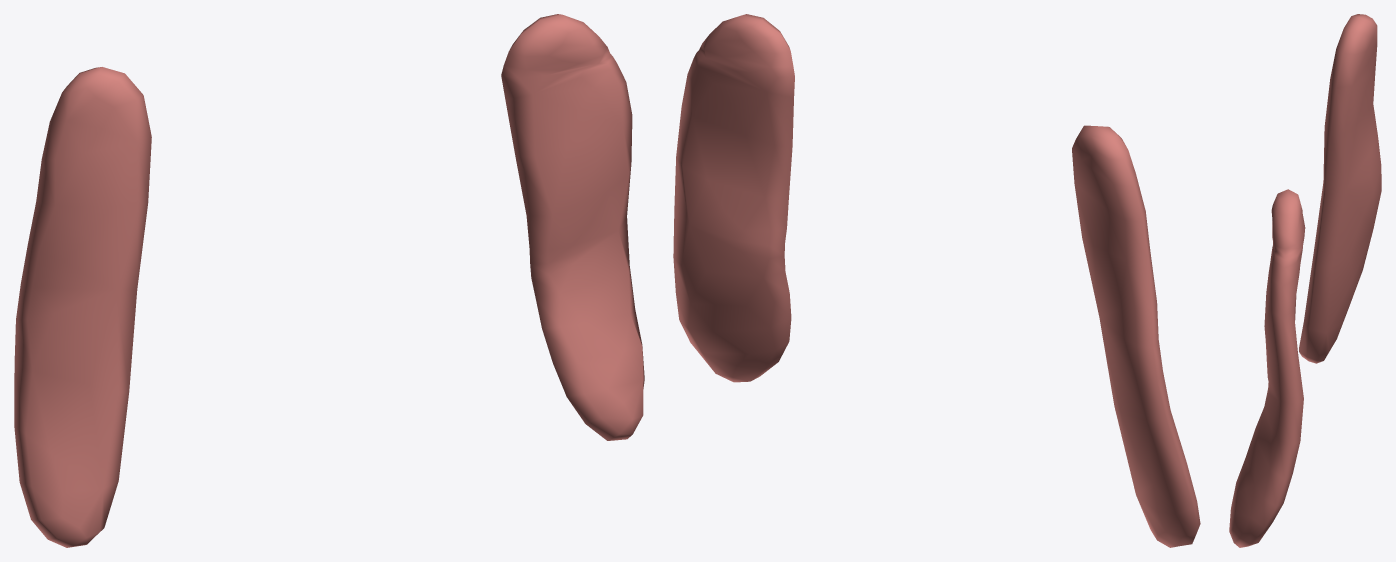
3 renders of one model, left to right at view 1: azimuth 30°, elevation 25°; view 2: azimuth 150°, elevation 25°; view 3: azimuth 270°, elevation 25°, orthographic. The views are drawn at different scales.
Parts seen in each view (by area): view 1: ZA_a45ca5fad7a11abe; view 2: ZA_a45ca5fad7a11abe; view 3: ZA_a45ca5fad7a11abe.
Boxes of the visible parts, left/top/right/bottom form: ZA_a45ca5fad7a11abe: left=14, top=14, right=644, bottom=547; ZA_a45ca5fad7a11abe: left=673, top=14, right=1200, bottom=547; ZA_a45ca5fad7a11abe: left=1229, top=14, right=1381, bottom=547.
Size of the model in its own units: 0.00847 by 0.00622 by 0.00236.
